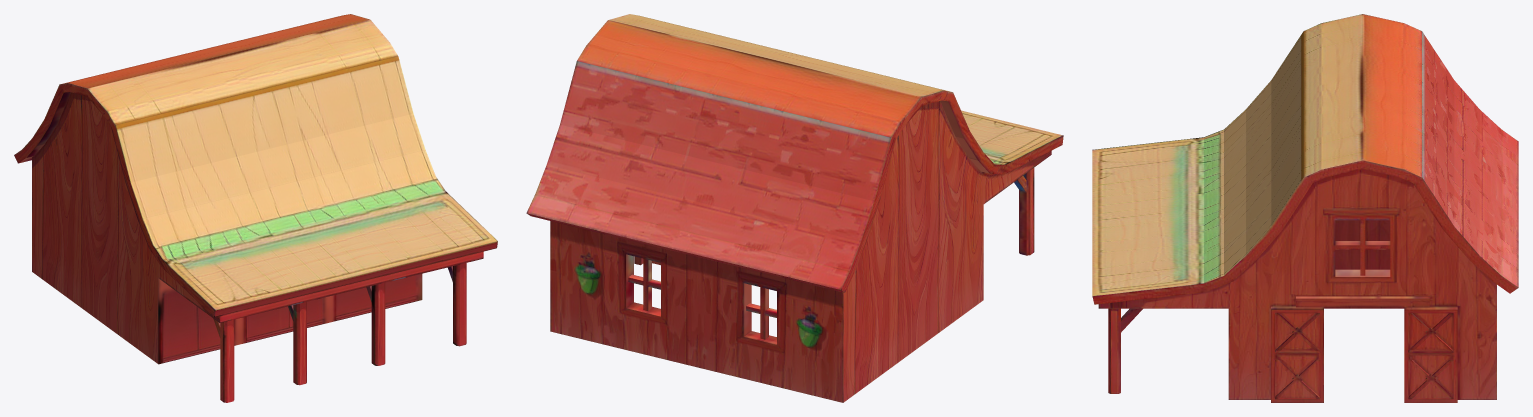
The model's file is ambar_1208081358.obj.
3 renders of one model, left to right at view 1: azimuth 30°, elevation 25°; view 2: azimuth 150°, elevation 25°; view 3: azimuth 270°, elevation 25°, orthographic. The views are drawn at different scales.
Visible parts, largest first — view 1: Mesh_0; view 2: Mesh_0; view 3: Mesh_0.
Part boxes in pixels (x1,y1,x2,y2): Mesh_0: (14,14,497,402); Mesh_0: (526,14,1063,402); Mesh_0: (1092,14,1518,402).
Bounding box in the file's own units: 0.8135 × 0.6353 × 1.
Materials: 1 (1 with a texture image).
